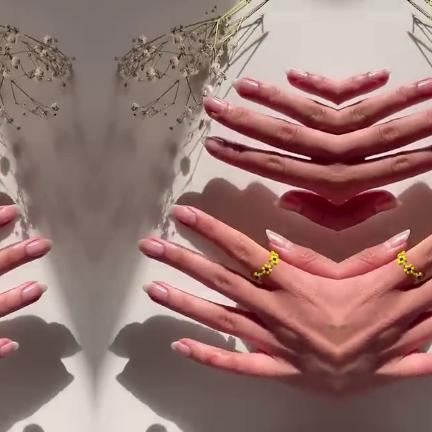Nail: (265, 229, 292, 250), (382, 229, 409, 250), (137, 238, 163, 258), (25, 238, 51, 258), (171, 206, 195, 226), (141, 283, 167, 301), (21, 283, 47, 301), (230, 78, 257, 94), (272, 198, 299, 212), (375, 198, 402, 212), (202, 96, 224, 113), (0, 206, 17, 225), (201, 136, 223, 150), (170, 341, 189, 356), (0, 341, 18, 356), (284, 69, 306, 80), (368, 69, 390, 80), (417, 79, 432, 94)
